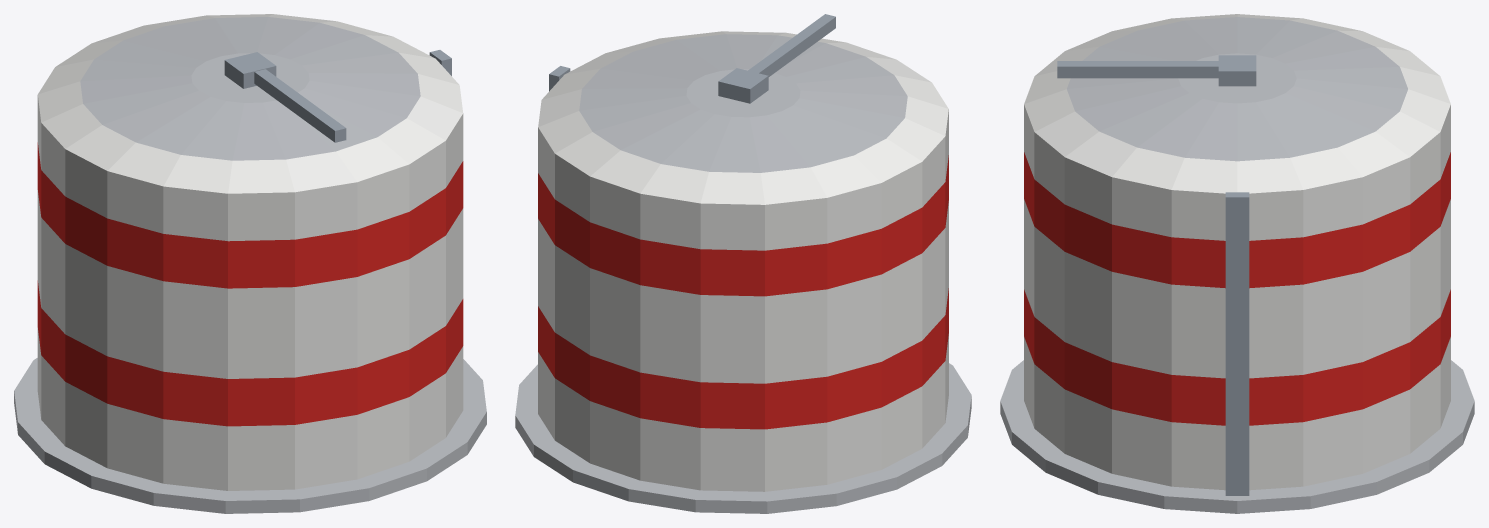
Rendered from OilTank.fbx.
3 views of the same model, side by side, from view 1: azimuth 30°, elevation 25°; view 2: azimuth 150°, elevation 25°; view 3: azimuth 270°, elevation 25° (orthographic). The views are drawn at different scales.
Parts seen in each view (by area): view 1: OilTank; view 2: OilTank; view 3: OilTank.
Boxes of the visible parts, box(x1,y1,x2,y2) form: OilTank: box(14, 14, 486, 513); OilTank: box(515, 14, 971, 513); OilTank: box(1000, 14, 1474, 513).
Bounding box in the file's own units: 20 × 16.3 × 20.
1 material, 1 textured.
